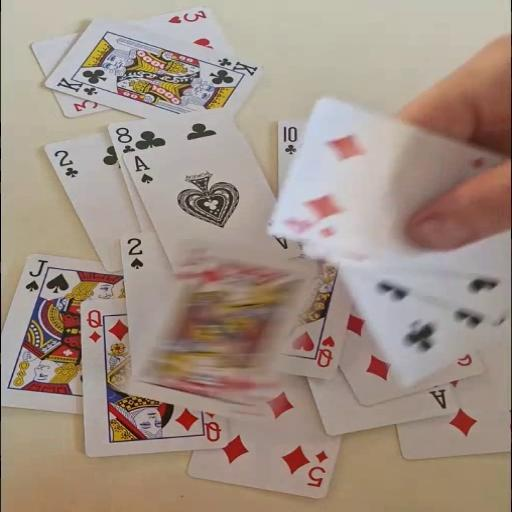10: (198, 408, 222, 442)
2: (50, 147, 80, 179), (124, 236, 146, 270)
3: (165, 8, 208, 24)
5: (304, 448, 331, 489)
8: (112, 125, 136, 154)
J: (22, 257, 49, 293)
K: (53, 74, 100, 96), (214, 55, 260, 77)
Q: (314, 333, 337, 369), (84, 307, 104, 344)
